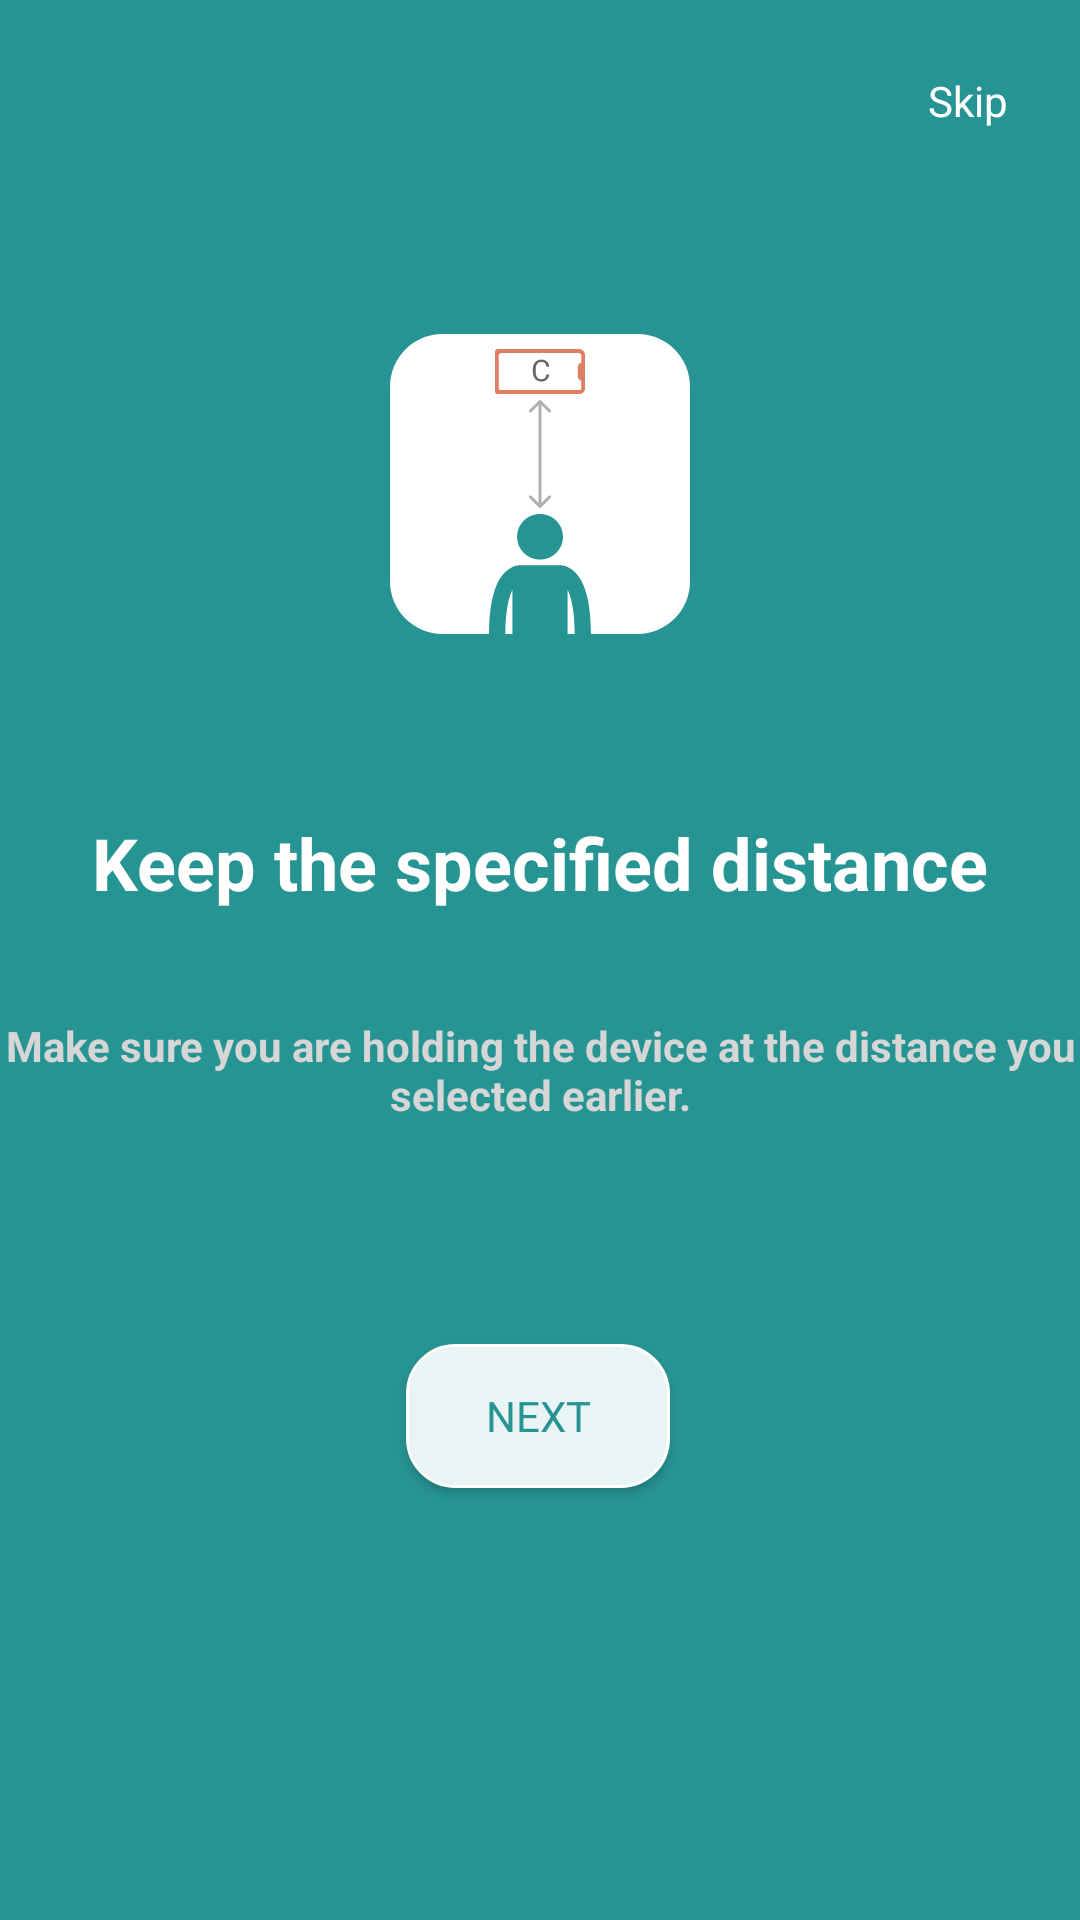

Screen size 1080x1920. Icon name, then its center in pixels as point (x, y):
distance length: point (540, 484)
